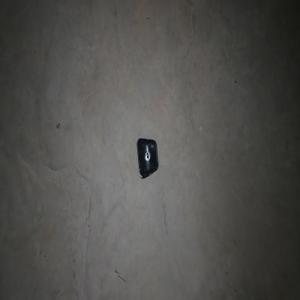LuggagePart: (135, 137, 158, 179)
